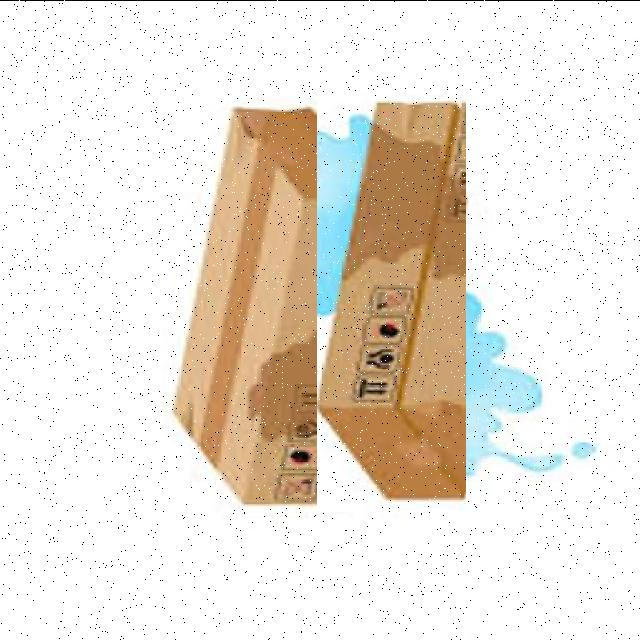defect: (168, 97, 384, 514), (317, 94, 466, 511)
